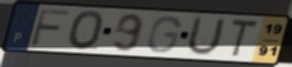9: (112, 12, 146, 53)
F: (28, 8, 73, 49)
G: (145, 15, 183, 55)
O: (66, 9, 106, 52)
T: (229, 17, 260, 59)
U: (183, 15, 228, 57)
